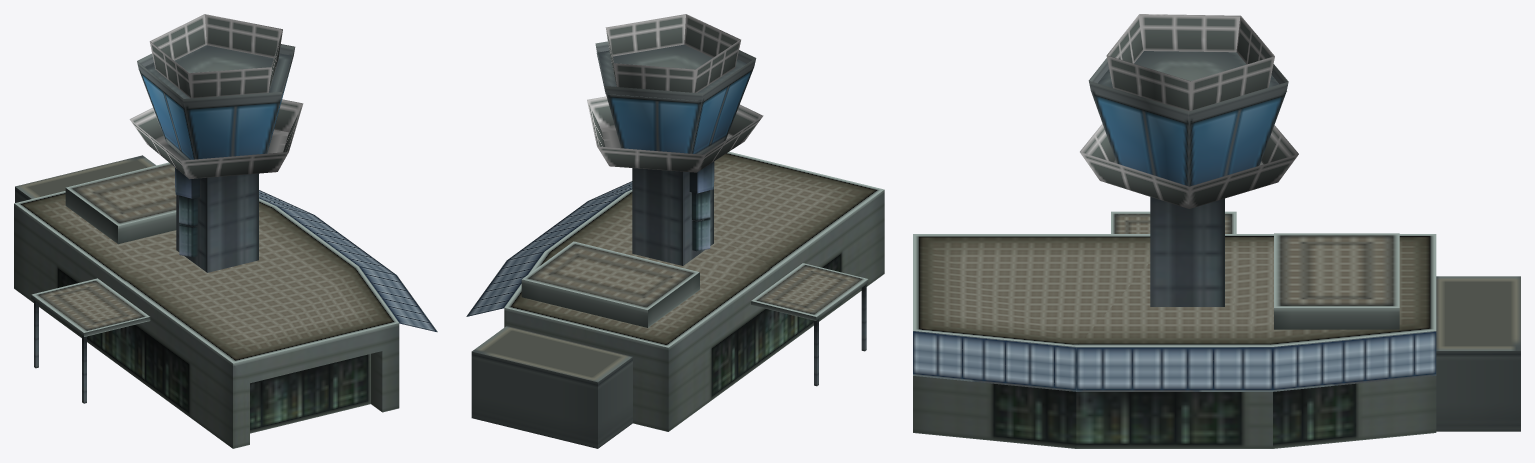
The model's file is Airport_Building.fbx.
The picture shows the model from 3 angles, left to right: view 1: azimuth 30°, elevation 25°; view 2: azimuth 150°, elevation 25°; view 3: azimuth 270°, elevation 25°; orthographic projection. The views are drawn at different scales.
Parts seen in each view (by area): view 1: Airport_Building1, AirportBuilding; view 2: Airport_Building1, AirportBuilding; view 3: Airport_Building1, AirportBuilding.
Part boxes in pixels (x1=…): Airport_Building1: x1=14, y1=14, x2=437, y2=448; AirportBuilding: x1=150, y1=14, x2=281, y2=73; Airport_Building1: x1=466, y1=14, x2=884, y2=448; AirportBuilding: x1=606, y1=14, x2=739, y2=69; Airport_Building1: x1=913, y1=14, x2=1520, y2=448; AirportBuilding: x1=1107, y1=14, x2=1273, y2=81.
Size of the model in its own units: 8.3 by 7.82 by 12.25.
